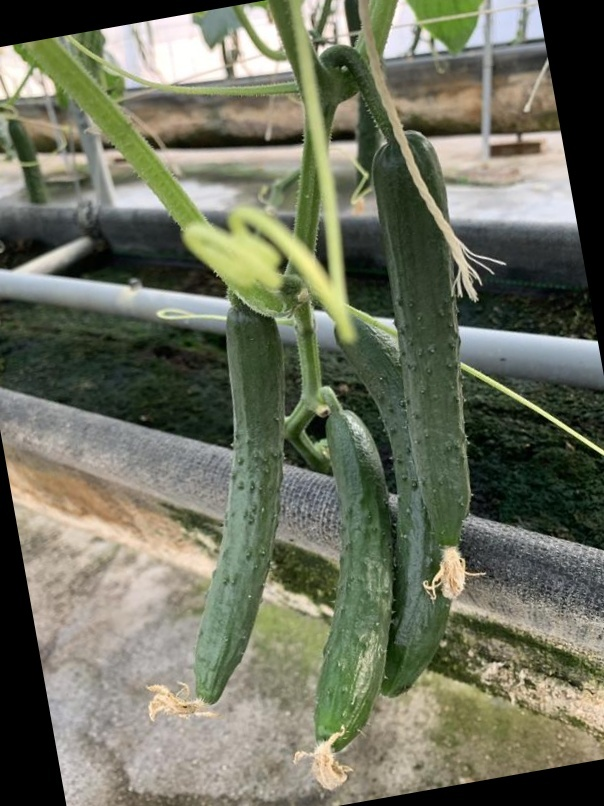mature: (365, 133, 475, 567), (184, 307, 284, 702), (308, 405, 396, 754)
